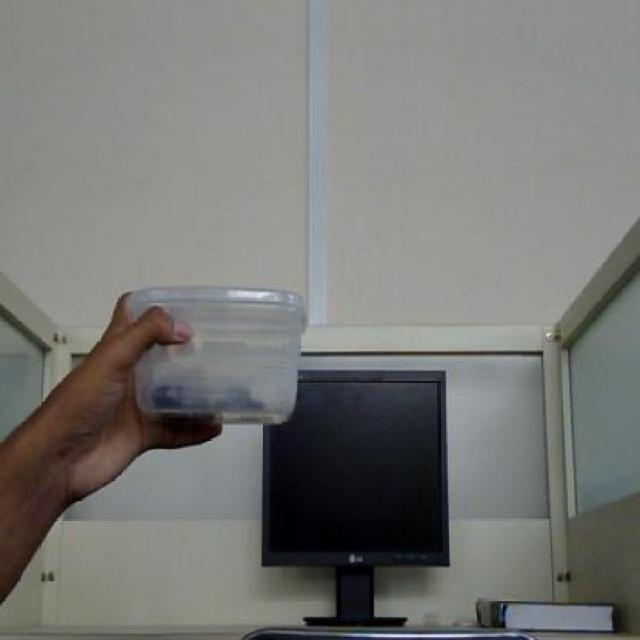Plastic: (128, 286, 309, 424)
